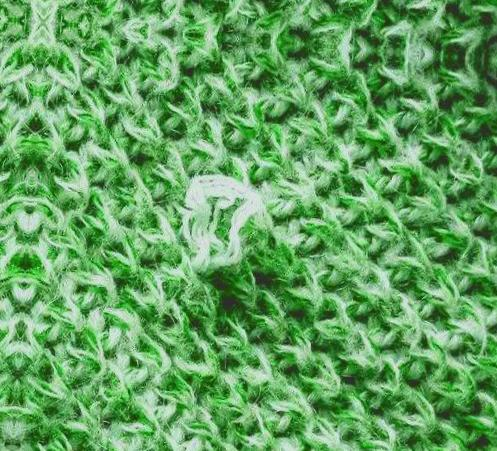snag: (172, 173, 275, 283)
